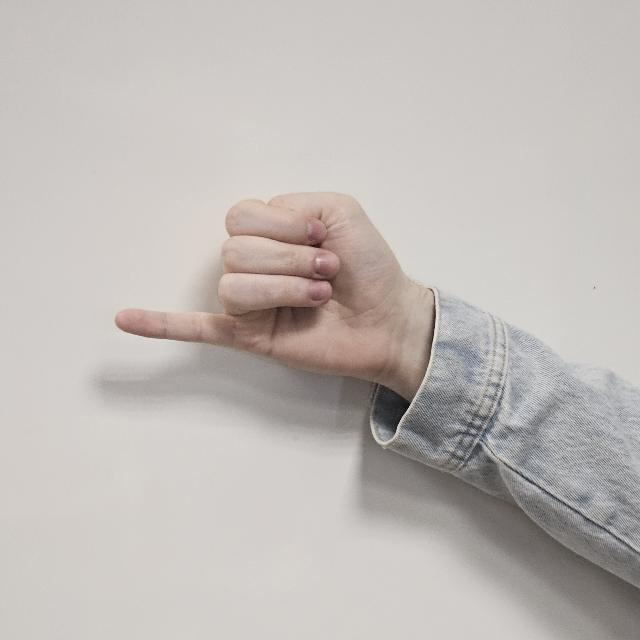Esquerda: (109, 170, 439, 414)
